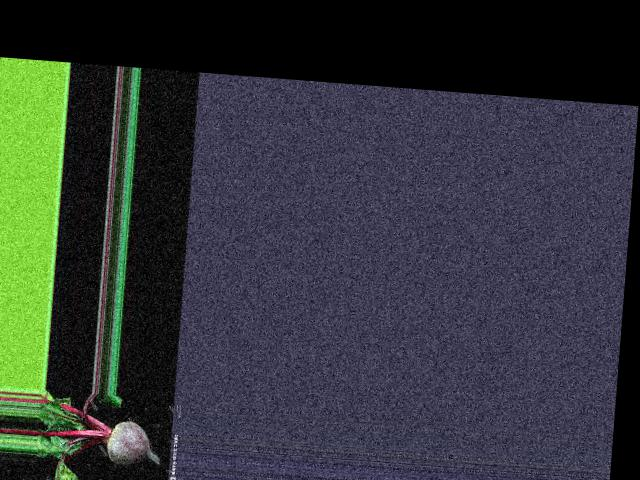beet: (34, 388, 164, 480)
